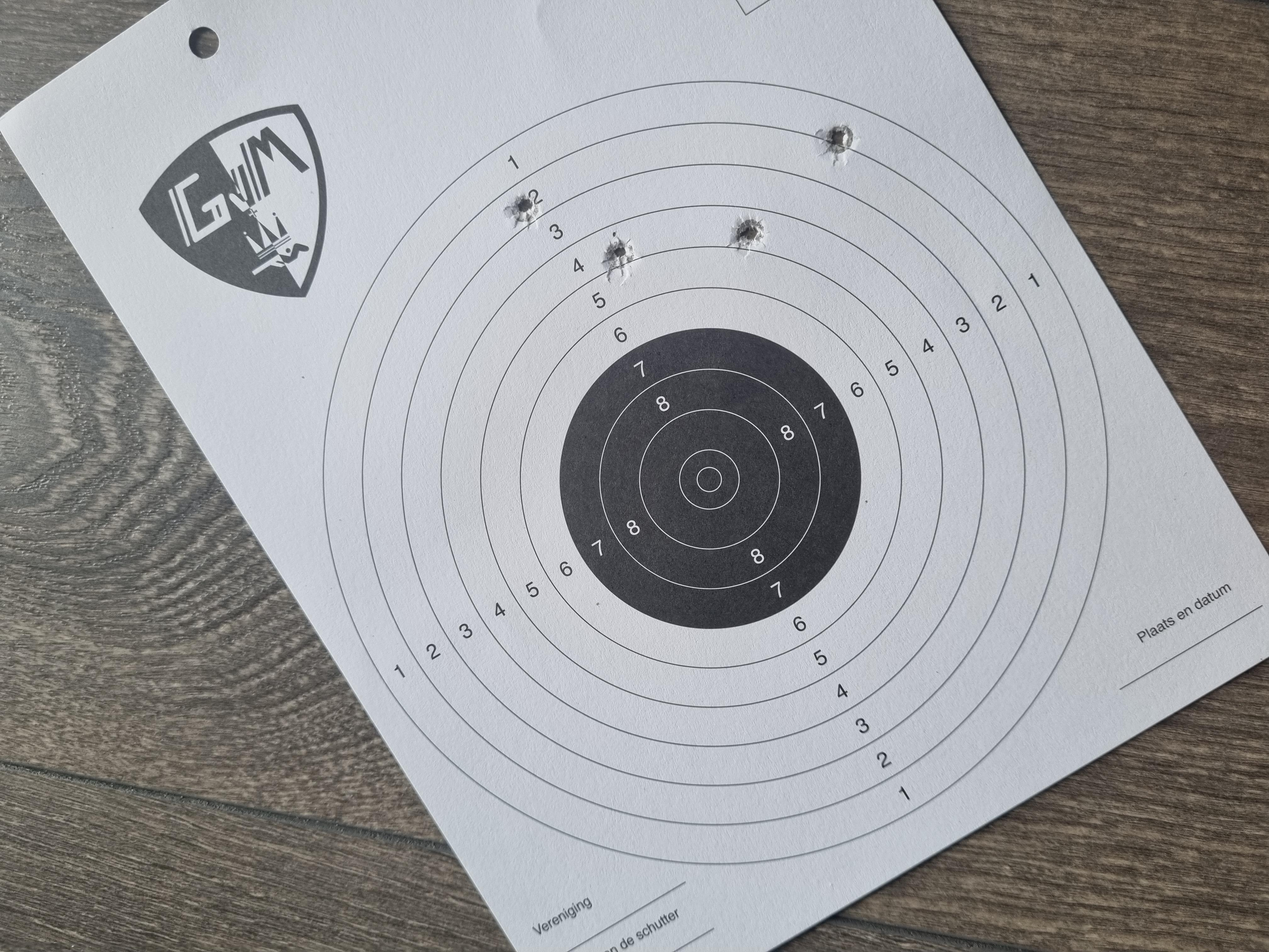hole: (1050, 612, 1102, 641), (927, 544, 979, 573), (962, 378, 1010, 407), (891, 453, 951, 476)
